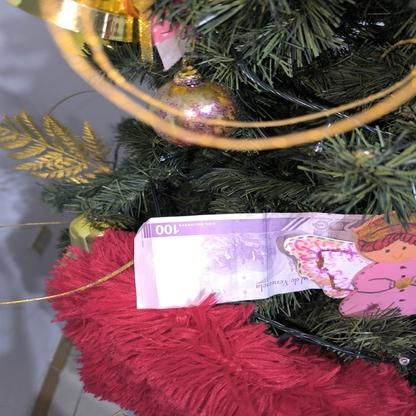one_hundred-back-vef: (134, 212, 372, 309)
